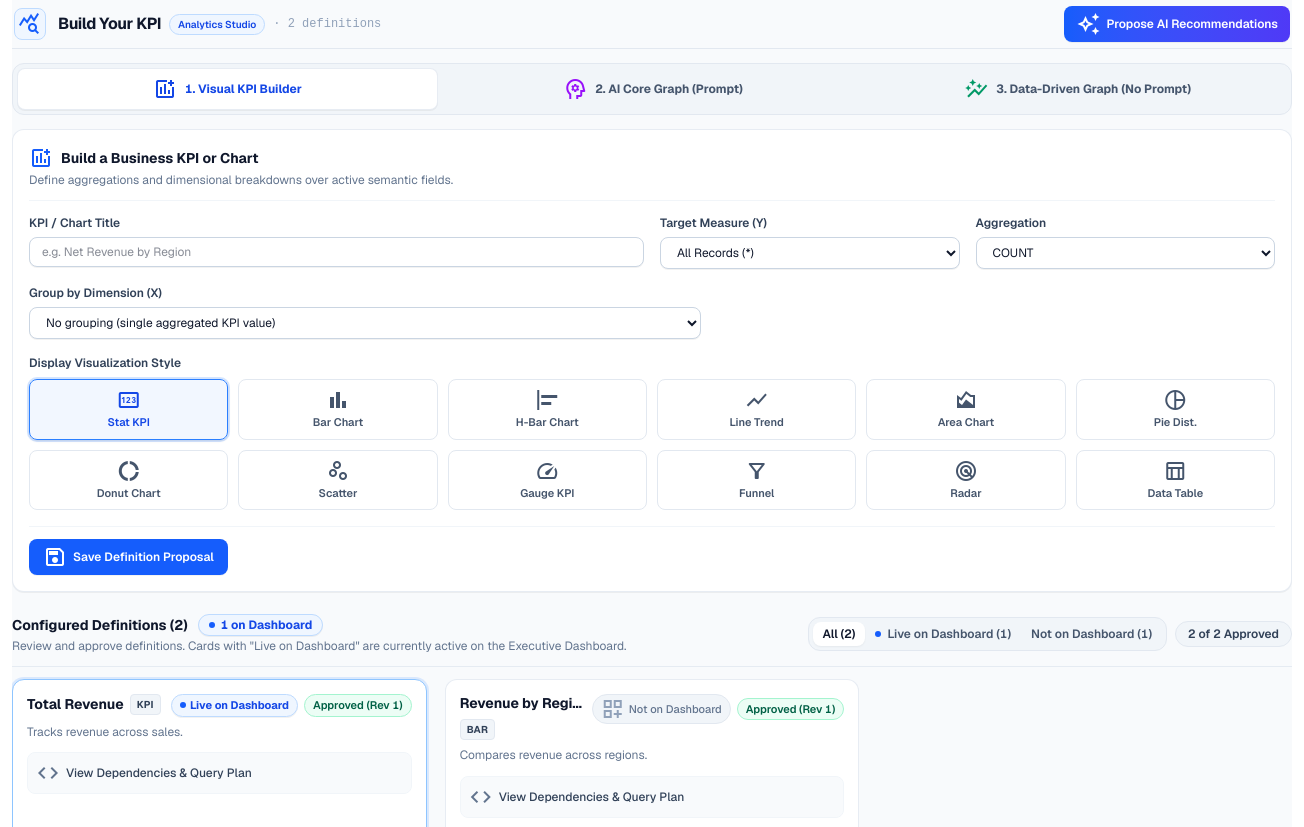
Platform correctness and navigation › preserves existing upload-generated KPI and chart widgets when clicking Propose AI Recommendations in Build Your KPI
Expected: the heading "Total Revenue" is shown, [27,695,124,714]
Expected: the heading "Revenue by Region" is shown, [460,694,584,713]
What coordinates should you click on to do the following:
click the button "Propose AI Recommendations"
I would click on:
 (1177, 24)
Its box is [1064,6,1290,42].
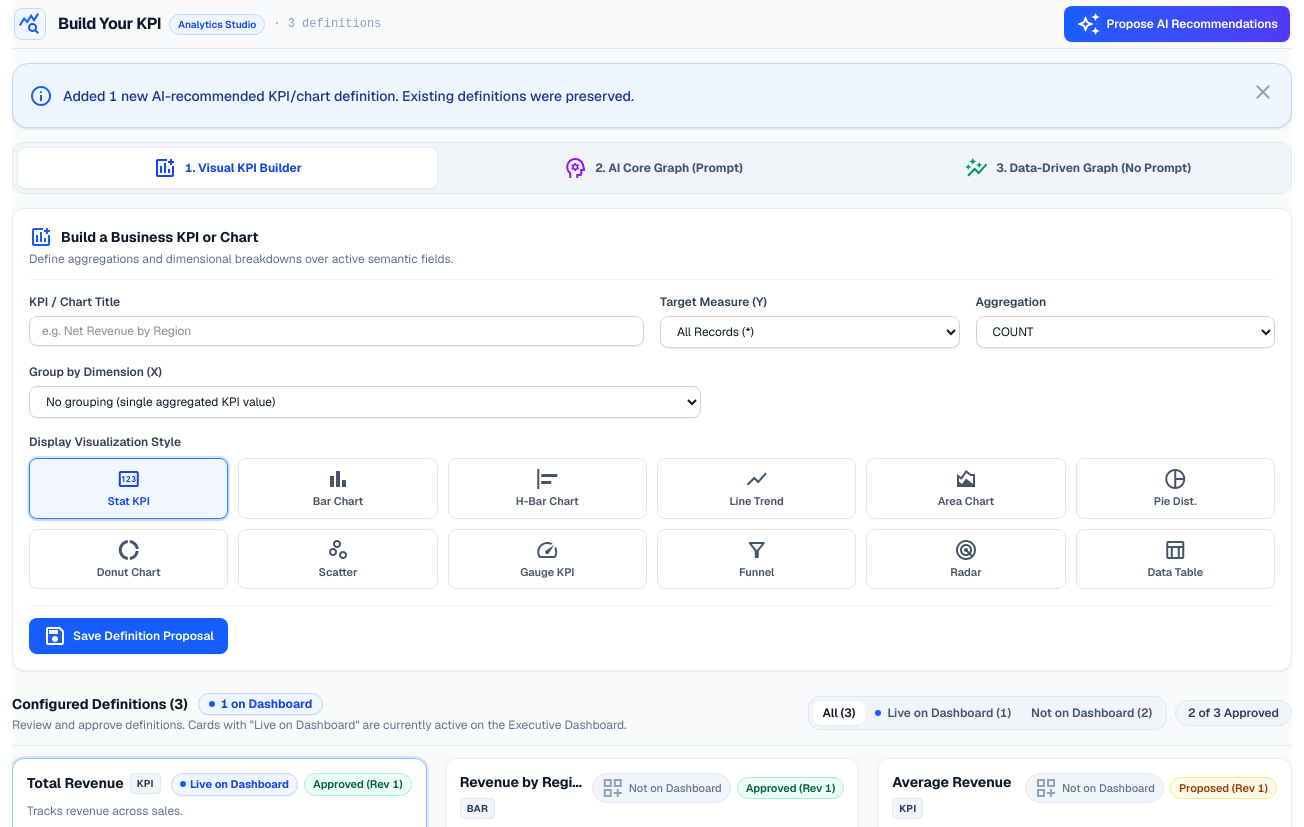
Expected: the heading "Total Revenue" is shown, [27,774,124,793]
Result: the heading "Average Revenue" is shown at [892,773,1011,792]
